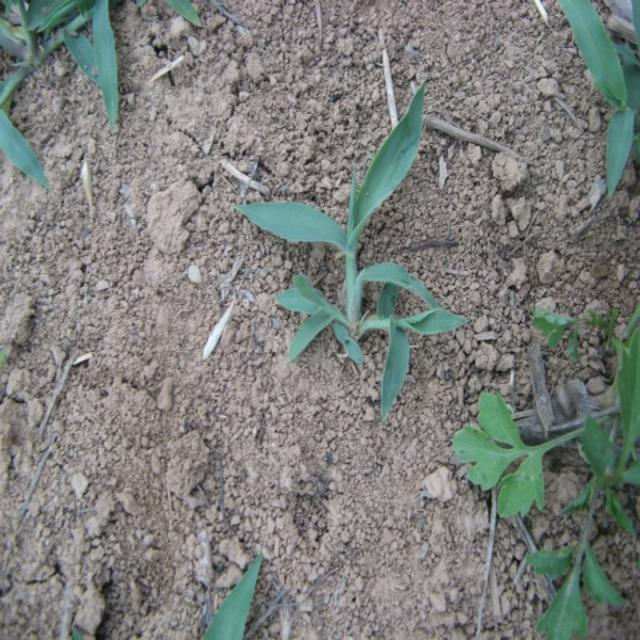bg: (234, 76, 469, 404)
